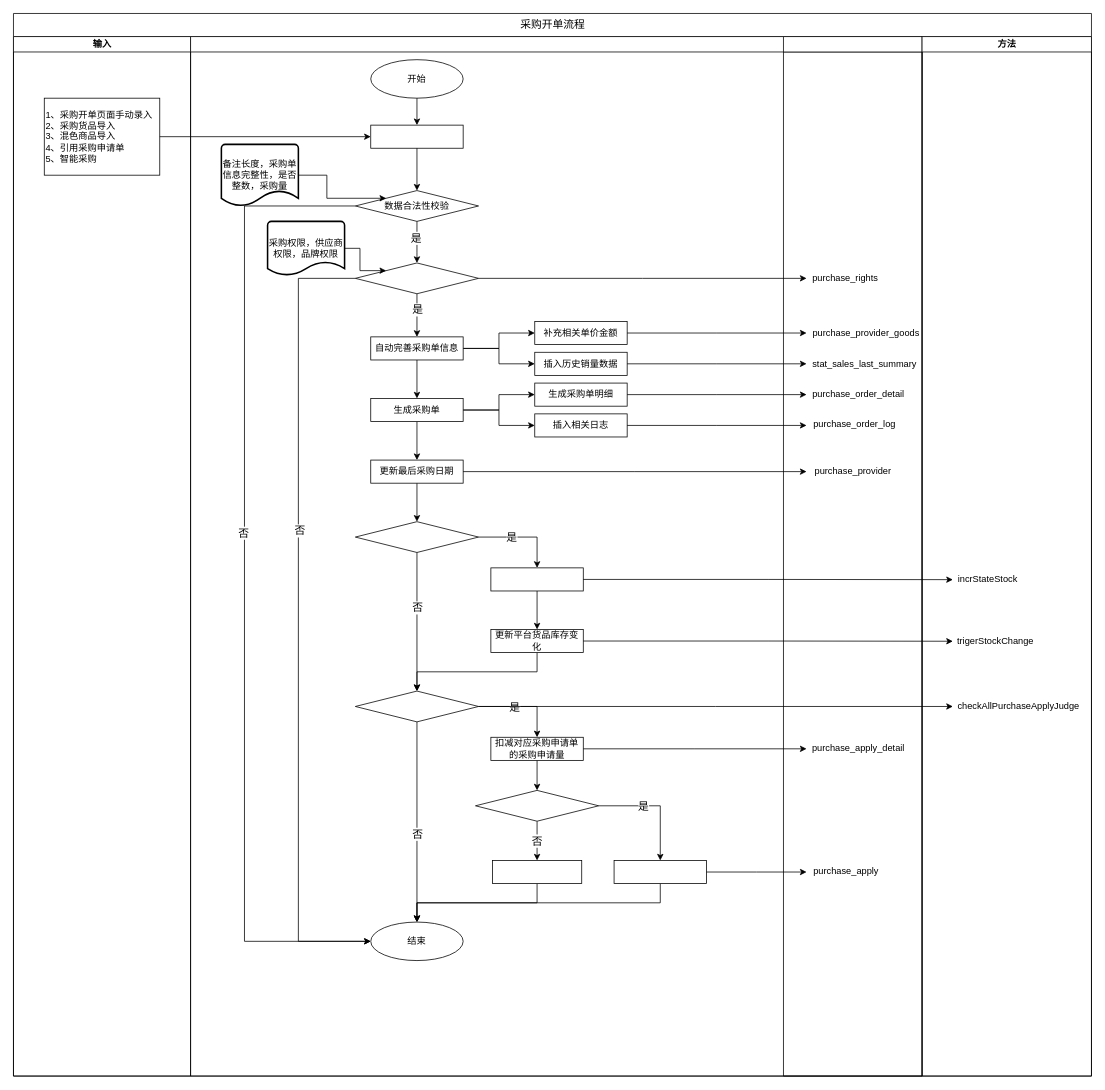
This 1105x1090 diagram has some shape labels left out. The box of each missing label's shape, as (x1, y1, x2, y2) in pixels:
关键表信息: (783, 36, 922, 1076)
增加待采购量: (490, 567, 583, 591)
是否引用采购申请单: (355, 690, 479, 722)
是否提交: (355, 521, 479, 552)
权限校验: (355, 262, 479, 294)
申请单状态改为已引用: (613, 860, 706, 884)
申请单状态改为部分引用: (492, 860, 582, 884)
输入采购单信息: (370, 124, 463, 148)
采购申请单被引用完全: (475, 790, 599, 821)
